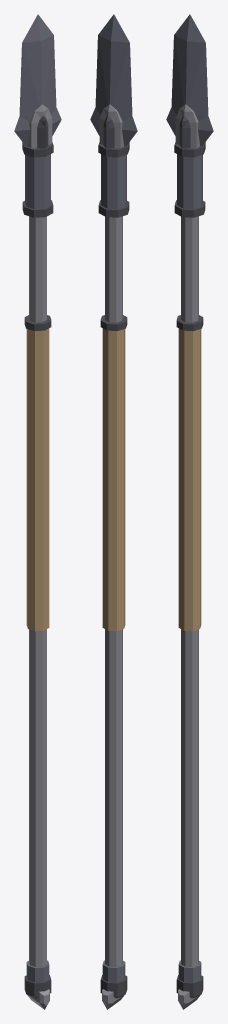
Rendered from Lanca_B01.fbx.
The picture shows the model from 3 angles, left to right: view 1: azimuth 30°, elevation 25°; view 2: azimuth 150°, elevation 25°; view 3: azimuth 330°, elevation 25°; orthographic projection.
Parts seen in each view (by area): view 1: polearm_1; view 2: polearm_1; view 3: polearm_1.
Part boxes in pixels (x1,y1,x2,y2): polearm_1: (14,14,61,1009); polearm_1: (90,14,137,1009); polearm_1: (166,14,213,1009).
Size of the model in its own units: 10.29 by 205 by 6.37.
